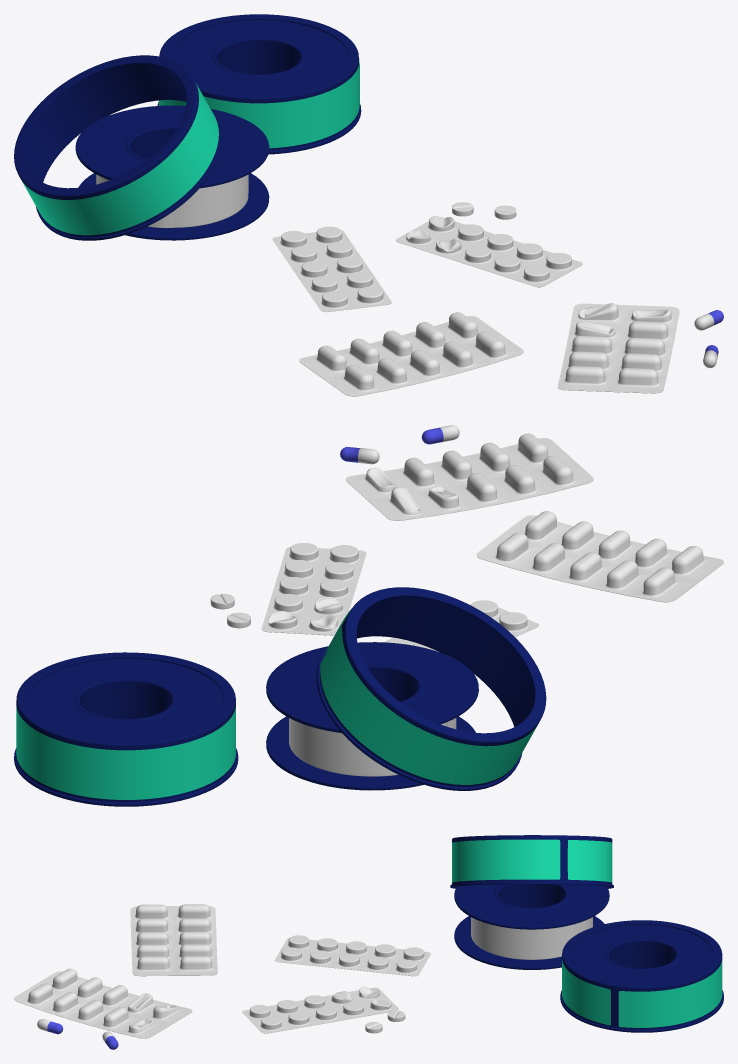
File: medicalset.fbx
3 views of the same model, one above another, from view 1: azimuth 30°, elevation 25°; view 2: azimuth 150°, elevation 25°; view 3: azimuth 270°, elevation 25° (orthographic). The views are drawn at different scales.
Visible parts, largest first — view 1: 02 Tampa.002, 02 Esparadrapo 2, 01 Esparadrapo 1, Plane.001, Plane.005, 04 rotulo tampa.003, Plane.004, Plane.008, 04 rotulo tampa.001, 02 Tampa.001, 04 Fita ponta.002, Cube.003; view 2: 02 Tampa.002, 02 Esparadrapo 2, 01 Esparadrapo 1, Plane.001, Plane.005, 04 rotulo tampa.001, 04 rotulo tampa.003, Plane.004, 02 Tampa.001, 04 Fita ponta.002, Plane.008, Cube.003 (+1 smaller); view 3: 02 Esparadrapo 2, 01 Esparadrapo 1, Plane.005, 04 rotulo tampa.003, Plane.001, 04 rotulo tampa.001, Plane.008, 02 Tampa.001, Plane.004, 04 Fita ponta.002, 02 Tampa.002, Cube.003 (+1 smaller).
Boxes of the visible parts, x1=… form: 02 Tampa.002: x1=14, y1=55, x2=222, y2=240; 02 Esparadrapo 2: x1=75, y1=105, x2=269, y2=240; 01 Esparadrapo 1: x1=170, y1=20, x2=347, y2=93; Plane.001: x1=299, y1=312, x2=523, y2=396; Plane.005: x1=557, y1=303, x2=679, y2=393; 04 rotulo tampa.003: x1=21, y1=82, x2=218, y2=235; Plane.004: x1=396, y1=216, x2=582, y2=286; Plane.008: x1=272, y1=226, x2=391, y2=311; 04 rotulo tampa.001: x1=159, y1=58, x2=359, y2=148; 02 Tampa.001: x1=157, y1=14, x2=361, y2=154; 04 Fita ponta.002: x1=96, y1=174, x2=248, y2=228; Cube.003: x1=694, y1=310, x2=723, y2=368; 02 Tampa.002: x1=316, y1=587, x2=546, y2=790; 02 Esparadrapo 2: x1=266, y1=642, x2=478, y2=790; 01 Esparadrapo 1: x1=29, y1=658, x2=223, y2=739; Plane.001: x1=476, y1=511, x2=723, y2=601; Plane.005: x1=345, y1=433, x2=593, y2=520; 04 rotulo tampa.001: x1=16, y1=706, x2=235, y2=799; 04 rotulo tampa.003: x1=320, y1=610, x2=536, y2=784; Plane.004: x1=261, y1=543, x2=366, y2=635; 02 Tampa.001: x1=14, y1=652, x2=238, y2=806; 04 Fita ponta.002: x1=289, y1=718, x2=456, y2=776; Plane.008: x1=386, y1=600, x2=539, y2=651; Cube.003: x1=340, y1=425, x2=459, y2=464; 02 Esparadrapo 2: x1=454, y1=884, x2=609, y2=969; 01 Esparadrapo 1: x1=571, y1=924, x2=713, y2=983; Plane.005: x1=14, y1=968, x2=192, y2=1038; 04 rotulo tampa.003: x1=452, y1=839, x2=612, y2=882; Plane.001: x1=130, y1=904, x2=217, y2=975; 04 rotulo tampa.001: x1=562, y1=960, x2=722, y2=1027; Plane.008: x1=275, y1=935, x2=430, y2=976; 02 Tampa.001: x1=560, y1=920, x2=723, y2=1032; Plane.004: x1=242, y1=986, x2=398, y2=1033; 04 Fita ponta.002: x1=471, y1=917, x2=592, y2=959; 02 Tampa.002: x1=450, y1=835, x2=613, y2=888; Cube.003: x1=37, y1=1019, x2=118, y2=1049.
Bounding box in the file's own units: 25.34 × 7.46 × 44.85.
